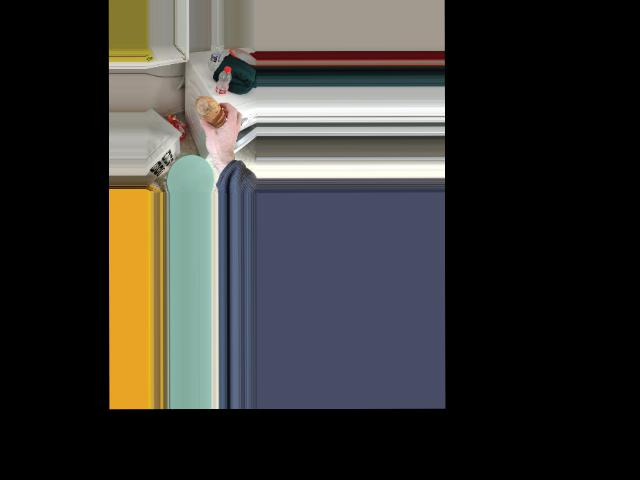sweet_potato: (197, 96, 225, 130)
